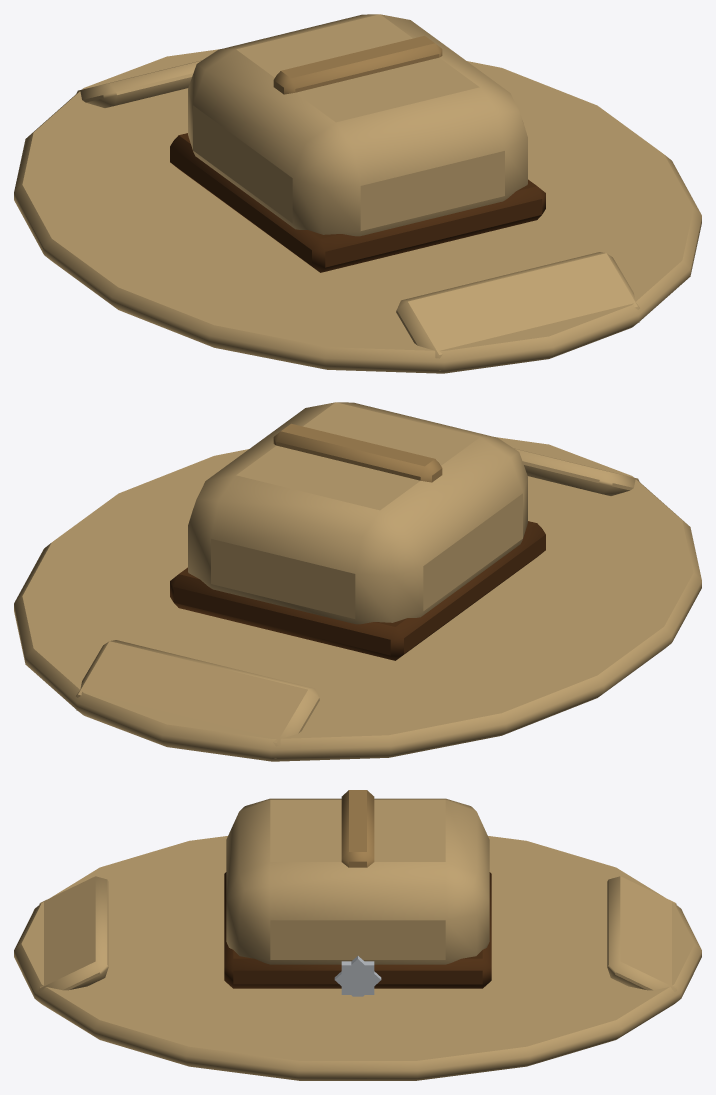
Rendered from hat-cowboy_hat.glb.
3 renders of one model, top to bottom at view 1: azimuth 30°, elevation 25°; view 2: azimuth 150°, elevation 25°; view 3: azimuth 270°, elevation 25°, orthographic. The views are drawn at different scales.
Visible parts, largest first — view 1: Hat; view 2: Hat; view 3: Hat.
Part boxes in pixels (bbox=[...]): Hat: bbox=[14, 14, 701, 373]; Hat: bbox=[14, 402, 701, 761]; Hat: bbox=[14, 790, 701, 1080].
Size of the model in its own units: 0.7776 by 0.215 by 0.94.
